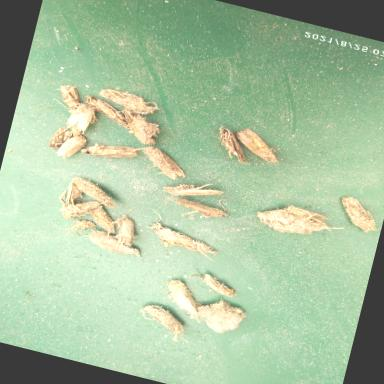pbw: (165, 186, 230, 226), (134, 302, 194, 344), (96, 83, 162, 118), (78, 94, 138, 132), (78, 134, 144, 168), (160, 172, 225, 206), (160, 278, 207, 322), (230, 125, 282, 164), (334, 194, 383, 235), (137, 144, 189, 182), (116, 107, 163, 147), (57, 190, 106, 228), (210, 124, 254, 164), (66, 176, 118, 208), (188, 270, 240, 298), (84, 206, 119, 243), (55, 124, 88, 161), (64, 100, 97, 136), (110, 213, 138, 253), (50, 82, 84, 114), (282, 204, 330, 224), (46, 124, 72, 152), (63, 182, 84, 210)
